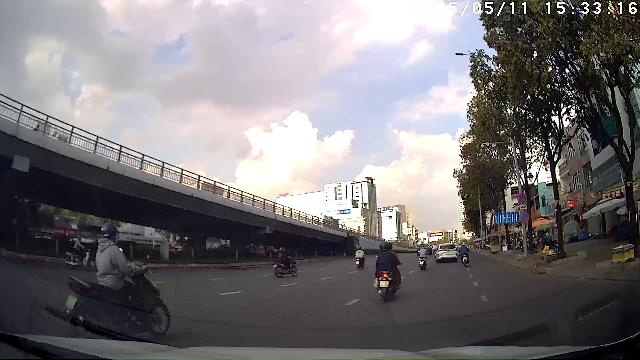130-cam-dung-va-do-xe: (517, 193, 527, 204)
131a-cam-do-xe: (518, 210, 530, 224)
